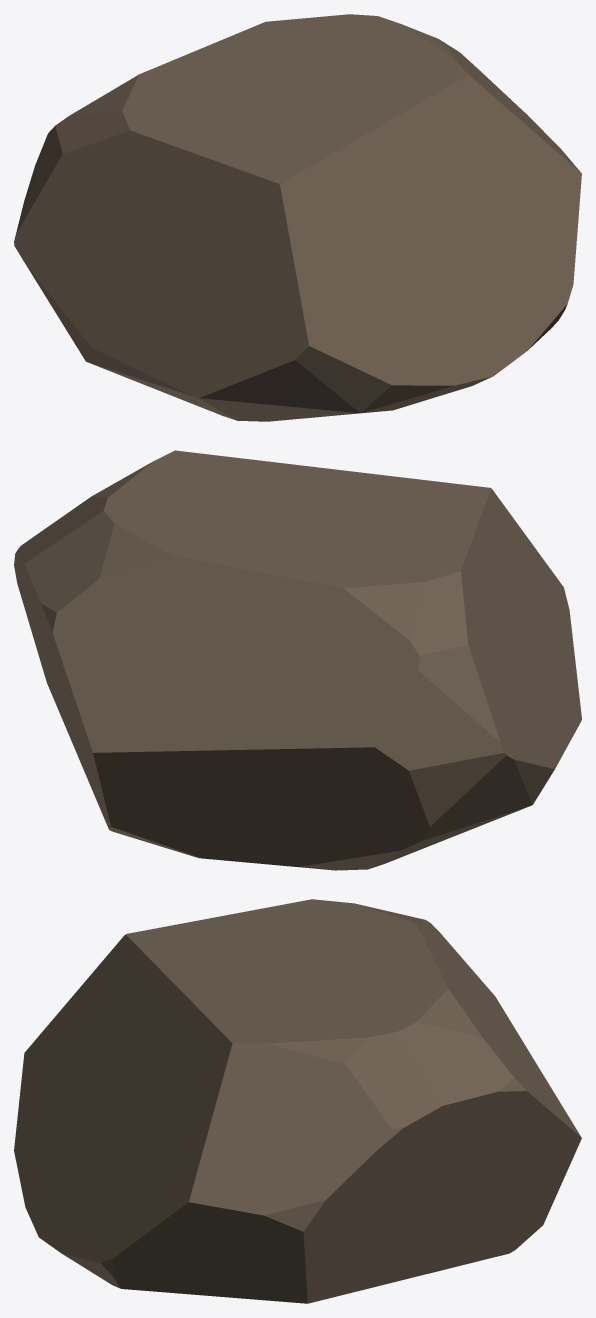
The model's file is Rock.fbx.
3 renders of one model, top to bottom at view 1: azimuth 30°, elevation 25°; view 2: azimuth 150°, elevation 25°; view 3: azimuth 270°, elevation 25°, orthographic. The views are drawn at different scales.
Parts seen in each view (by area): view 1: Icosphere.001; view 2: Icosphere.001; view 3: Icosphere.001.
Part boxes in pixels (x1,y1,x2,y2): Icosphere.001: (14,14,581,421); Icosphere.001: (14,450,581,870); Icosphere.001: (14,899,581,1303).
Bounding box in the file's own units: 189 × 100 × 180.
